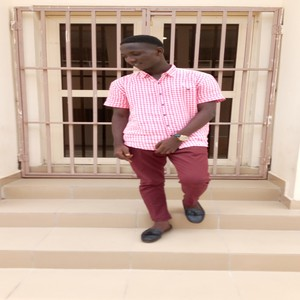Fulokoja_male_student: (108, 38, 207, 230)
